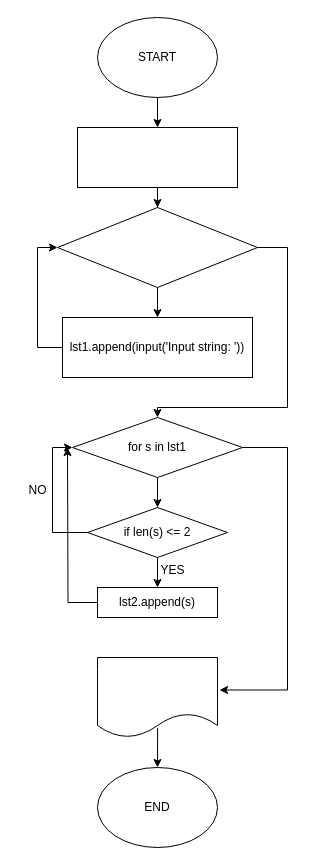
This 313x865 diagram has some shape labels left out. Here are the shapes that lost their labels. From the top down, the box of each, then its label:
(76, 126, 238, 188): lst1 = [] lst2 = [] size_lst1 = int(input())
(56, 206, 258, 288): for i in range(len(size_lst1)
(96, 656, 218, 738): print(lst1) print(lst2)
